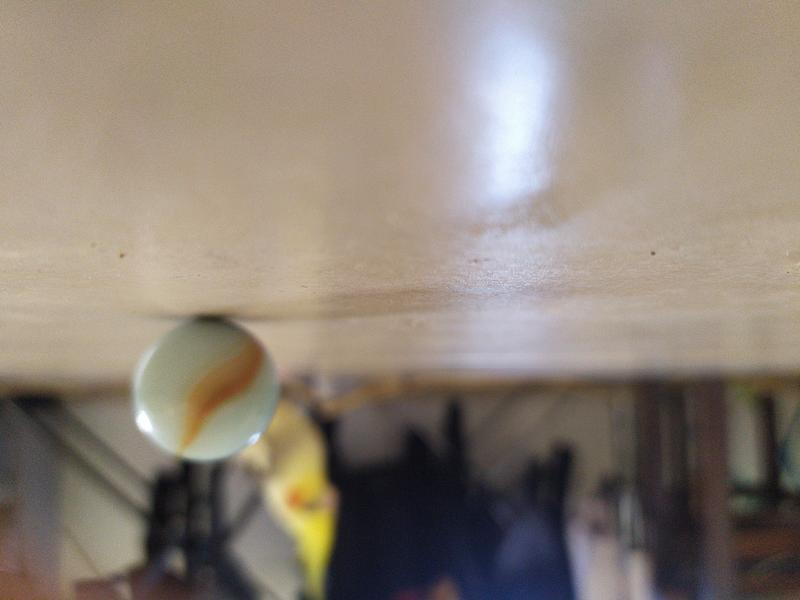Warning: (128, 311, 286, 467)
